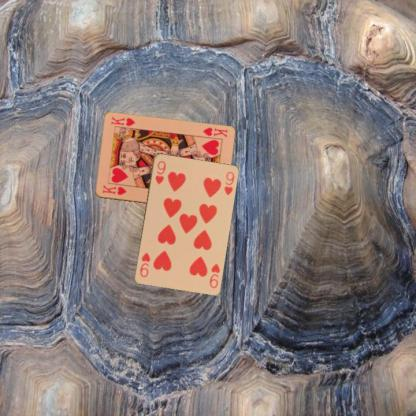9h: (207, 260, 221, 289), (153, 158, 167, 185)
Kh: (200, 125, 228, 139), (100, 182, 127, 196)
